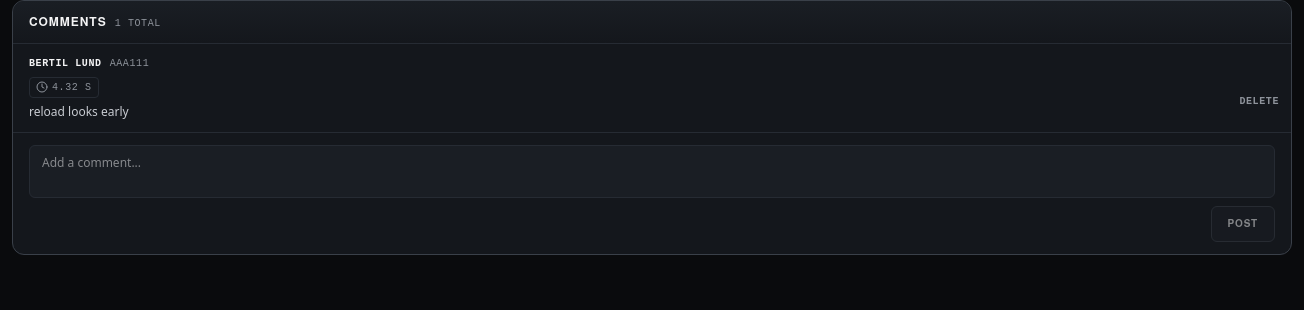
Scenario: CommentPanel author codes (#867) › shows every name a code posted under when a moderator opens detail
What coordinates should you click on to do the following:
click the button with aria-label "author detail"
I would click on:
 (129, 64)
Its box is [110,56,149,71].
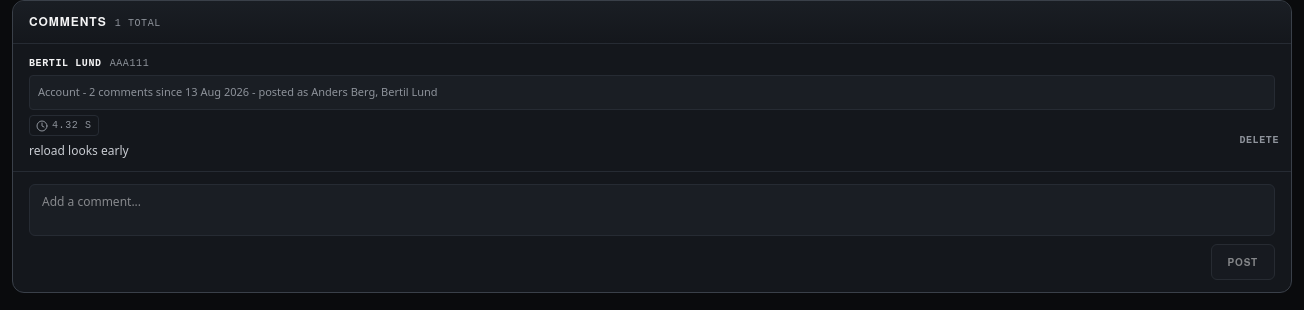
Expected: the text "2 comments" is shown, [38,84,438,99]
